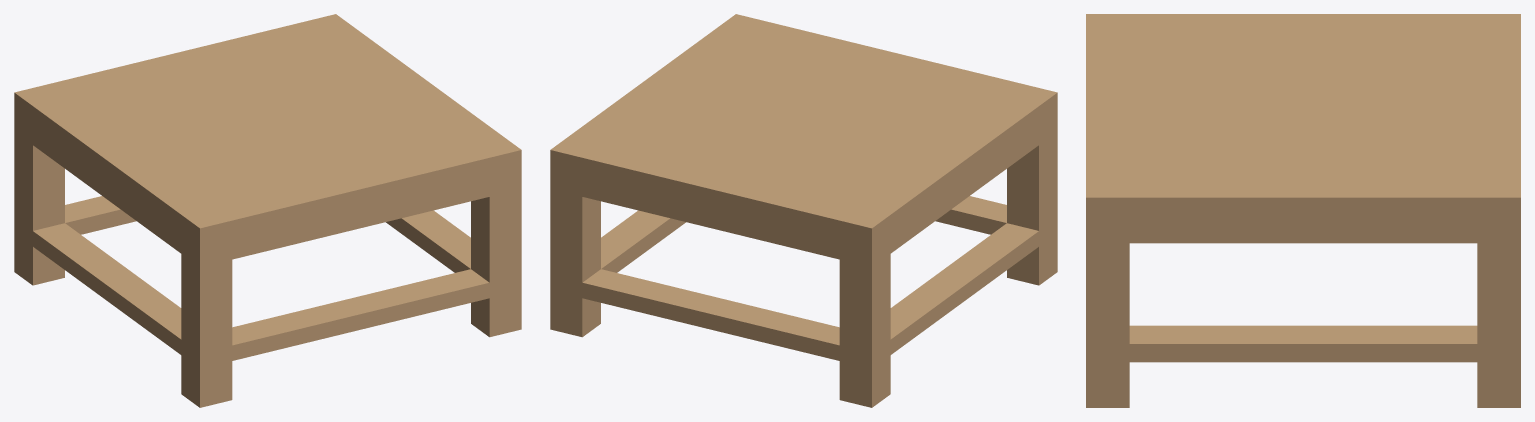
Rendered from table-coffee-square.glb.
The picture shows the model from 3 angles, left to right: view 1: azimuth 30°, elevation 25°; view 2: azimuth 150°, elevation 25°; view 3: azimuth 270°, elevation 25°; orthographic projection. The views are drawn at different scales.
Parts seen in each view (by area): view 1: table-coffee-square; view 2: table-coffee-square; view 3: table-coffee-square.
Part boxes in pixels (left/top/right/bottom): table-coffee-square: left=14, top=14, right=521, bottom=407; table-coffee-square: left=550, top=14, right=1057, bottom=407; table-coffee-square: left=1086, top=14, right=1520, bottom=407.
Bounding box in the file's own units: 0.75 × 0.4 × 0.75.
